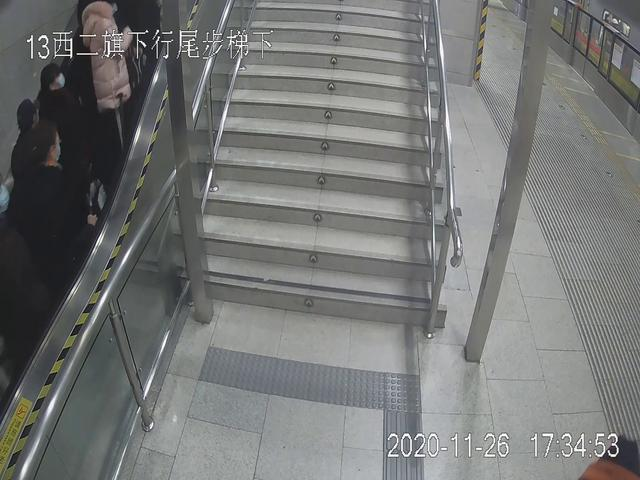person: (19, 118, 71, 301), (77, 1, 136, 158), (26, 63, 85, 178)
